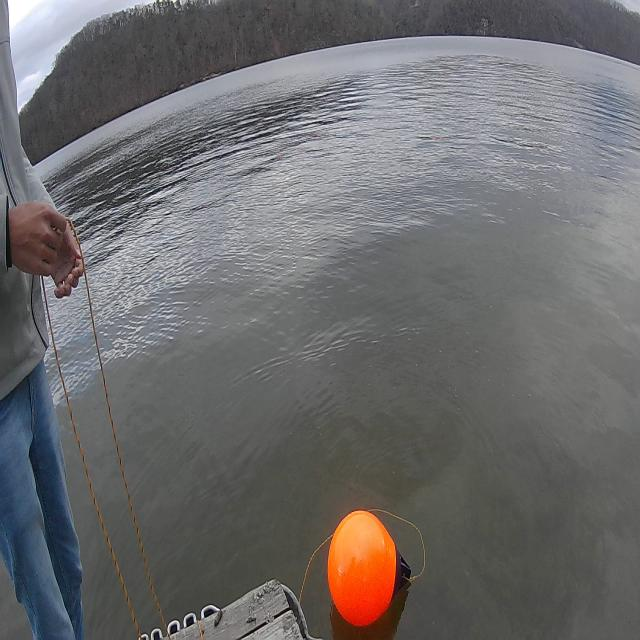Buoy: (324, 506, 398, 631)
